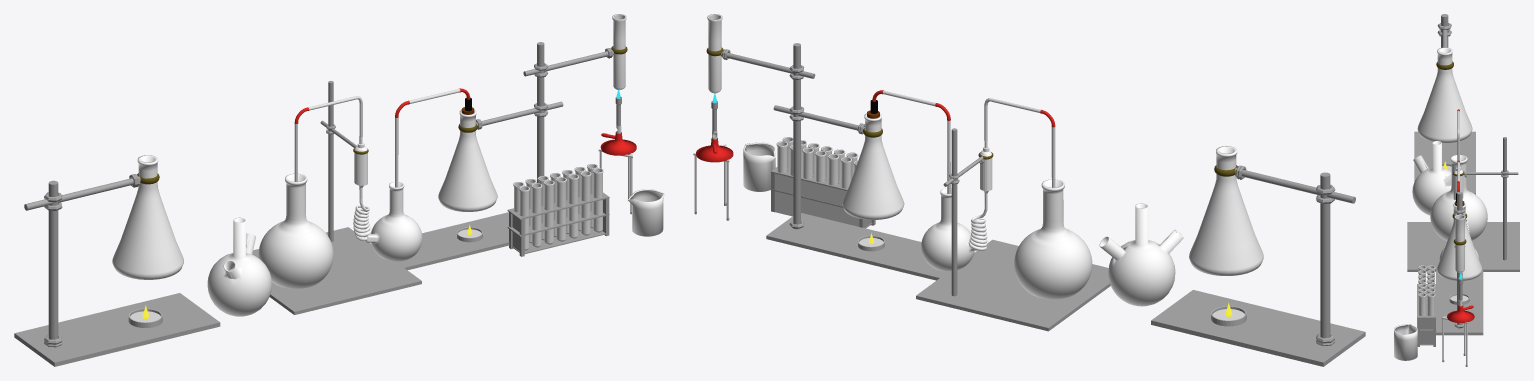
File: Chemistry_Set.glb
3 renders of one model, left to right at view 1: azimuth 30°, elevation 25°; view 2: azimuth 150°, elevation 25°; view 3: azimuth 270°, elevation 25°, orthographic. The views are drawn at different scales.
Visible parts, largest first — view 1: Cube, Cube.001, Sphere.001, Cylinder.005, Cylinder, Sphere.002, Cylinder.134, Cube.096, Sphere.006, Cube.002, Cylinder.006, Circle (+9 smaller); view 2: Cube.001, Cube, Sphere.001, Cylinder.005, Cube.096, Sphere.002, Cylinder.134, Cube.006, Sphere.006, Cylinder.001, Cylinder.006, Cylinder.010 (+10 smaller); view 3: Cube.001, Cylinder.005, Cube.096, Sphere.001, Sphere.002, Cube, Cylinder.134, Circle, Cube.002, Cylinder.141, Cylinder.003, Cylinder.013 (+9 smaller).
Part boxes in pixels (x1,y1,x2,y2): Cube: (14, 293, 220, 366); Cube.001: (252, 227, 421, 314); Sphere.001: (258, 173, 333, 288); Cylinder.005: (112, 155, 183, 279); Cylinder: (519, 168, 603, 250); Sphere.002: (207, 217, 271, 316); Cylinder.134: (438, 110, 497, 211); Cube.096: (396, 212, 509, 270); Sphere.006: (364, 182, 422, 261); Cube.002: (507, 192, 609, 256); Cylinder.006: (48, 180, 58, 339); Circle: (628, 189, 664, 236); Cube.001: (916, 239, 1110, 331); Cube: (1151, 290, 1365, 366); Sphere.001: (1014, 179, 1092, 299); Cylinder.005: (1189, 146, 1263, 275); Cube.096: (766, 213, 948, 280); Sphere.002: (1099, 203, 1183, 306); Cylinder.134: (842, 113, 904, 219); Cube.006: (774, 173, 859, 226); Sphere.006: (921, 188, 981, 271); Cylinder.001: (776, 141, 858, 188); Cylinder.006: (1320, 172, 1330, 338); Cylinder.010: (870, 90, 1055, 193); Cube.001: (1407, 222, 1519, 271); Cylinder.005: (1417, 47, 1472, 142); Cube.096: (1436, 270, 1483, 335); Sphere.001: (1430, 155, 1487, 240); Sphere.002: (1412, 141, 1451, 215); Cube: (1414, 131, 1475, 194); Cylinder.134: (1437, 203, 1482, 280); Circle: (1394, 324, 1417, 360); Cube.002: (1417, 284, 1436, 346); Cylinder.141: (1454, 214, 1465, 272); Cylinder.003: (1447, 278, 1474, 322); Cylinder.013: (1503, 137, 1506, 260).
Size of the model in its own units: 16.53 by 4.83 by 3.81.
